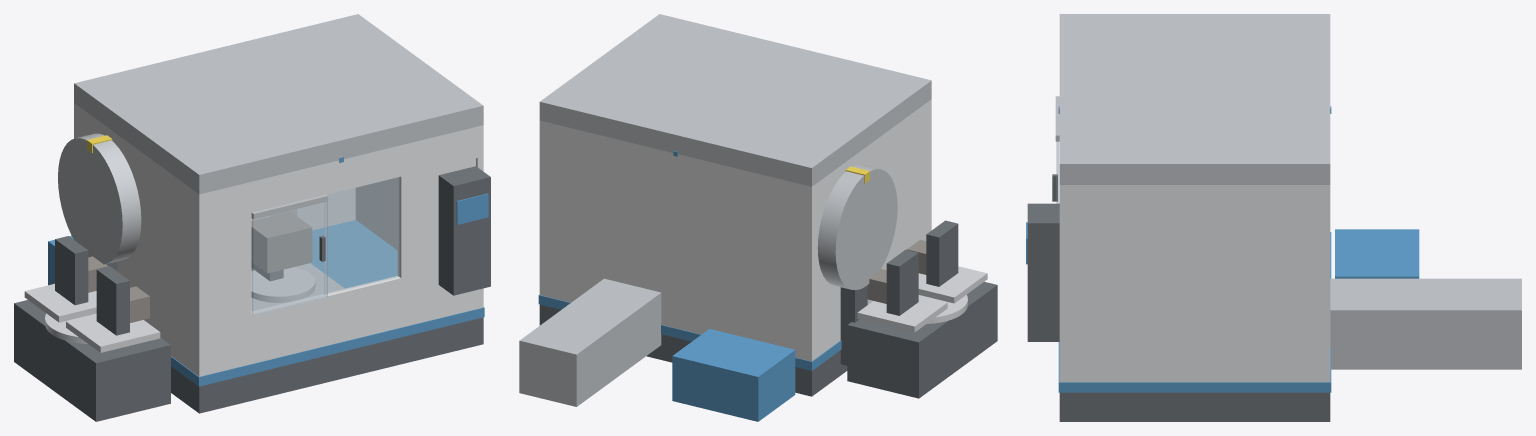
File: hmc_test.glb
The picture shows the model from 3 angles, left to right: view 1: azimuth 30°, elevation 25°; view 2: azimuth 150°, elevation 25°; view 3: azimuth 270°, elevation 25°; orthographic projection. The views are drawn at different scales.
Parts seen in each view (by area): view 1: Enclosure, Base, APC_Base, Magazine, Door, Pallet_B, Pallet_A, Workpiece, B_axis, Table; view 2: Enclosure, APC_Base, Magazine, Pallet_A, Pallet_B, Base; view 3: Enclosure, Base, Door.
Part boxes in pixels (x1,y1,x2,y2): Enclosure: (48, 14, 490, 376); Base: (171, 220, 484, 413); APC_Base: (14, 300, 170, 421); Magazine: (58, 133, 141, 271); Door: (251, 194, 328, 315); Pallet_B: (66, 266, 160, 352); Pallet_A: (24, 236, 108, 322); Workpiece: (251, 211, 312, 273); B_axis: (251, 262, 315, 302); Table: (251, 263, 344, 310); Enclosure: (519, 14, 931, 421); APC_Base: (847, 281, 997, 398); Magazine: (817, 165, 897, 365); Pallet_A: (857, 249, 947, 332); Pallet_B: (907, 220, 987, 303); Base: (538, 295, 847, 396); Enclosure: (1026, 14, 1521, 382); Base: (1058, 232, 1331, 421); Door: (1052, 96, 1059, 203).
Size of the model in its own units: 5.01 by 3.05 by 5.31.
